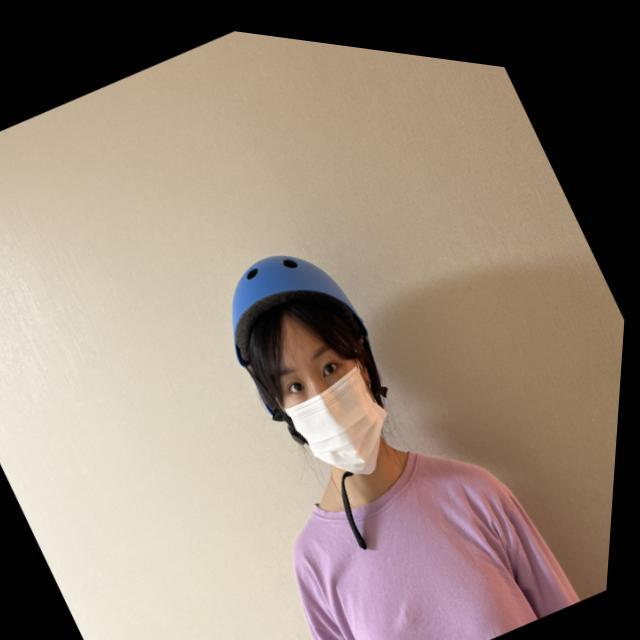Helmet: (228, 251, 392, 477)
